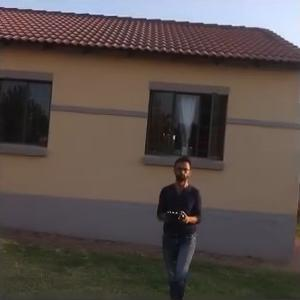follow: (149, 151, 202, 299)
